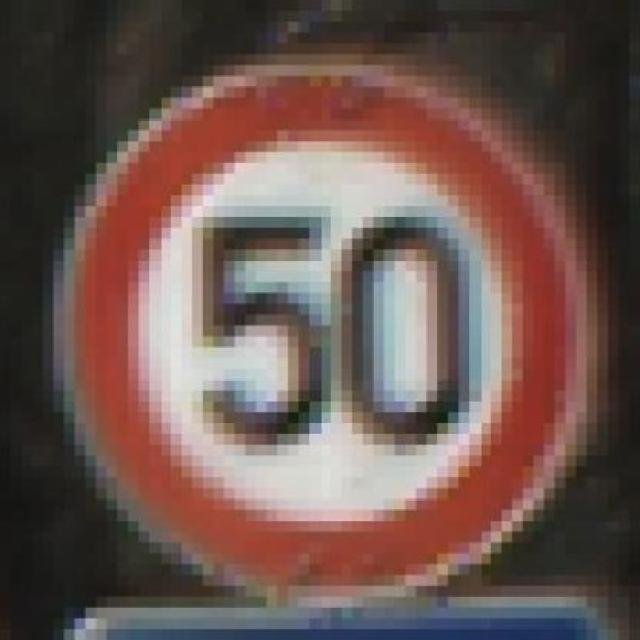Speed limit 50: (63, 49, 597, 598)
